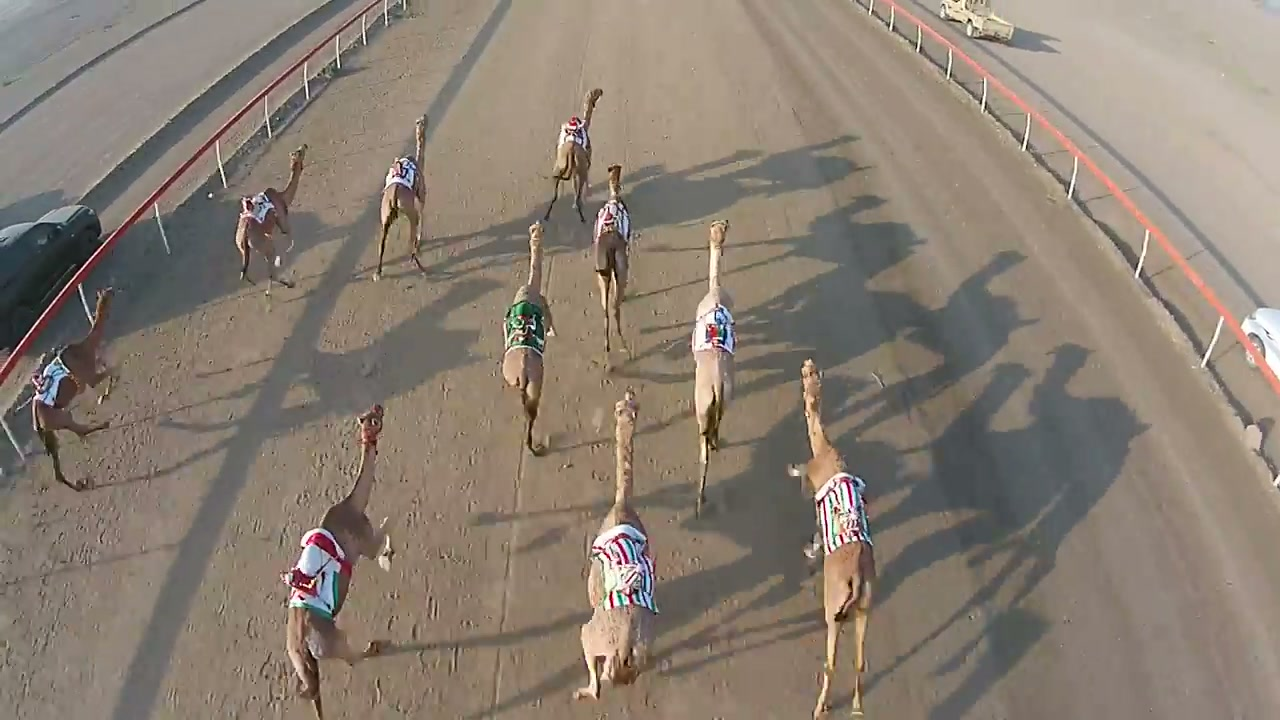animal_footprint: (402, 304, 528, 706), (233, 456, 308, 719)
